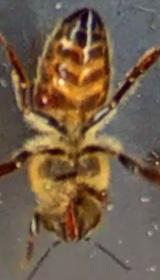varroa_mite: (34, 83, 61, 114)
